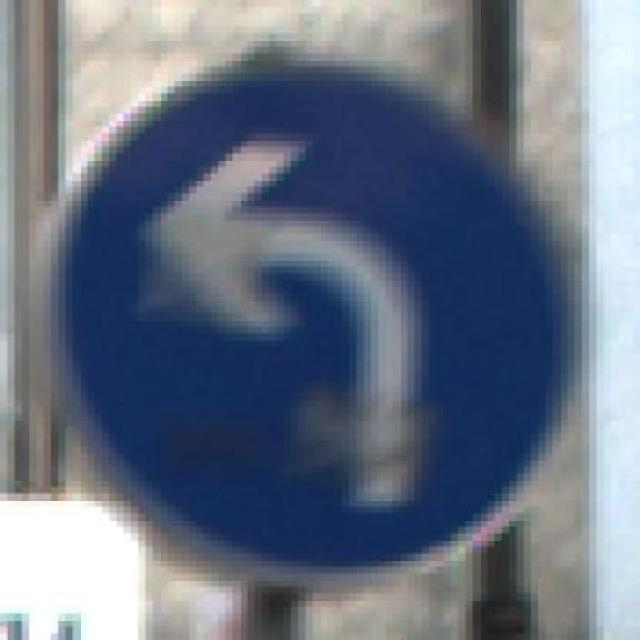Turn left ahead: (29, 39, 589, 587)
